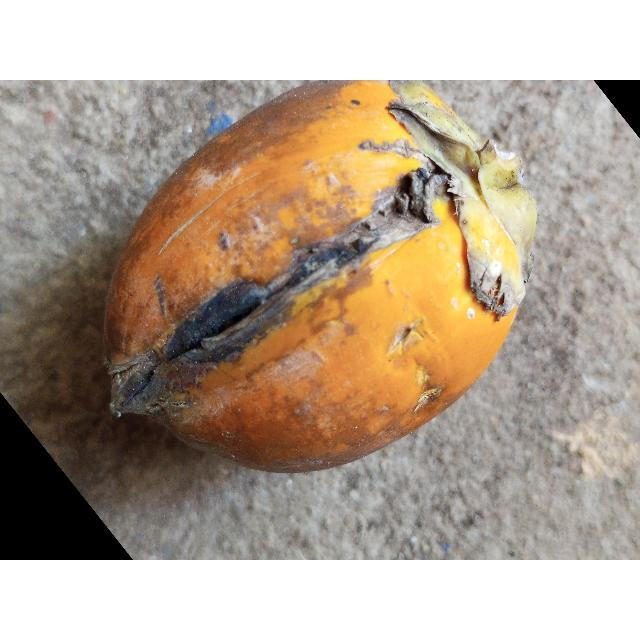damaged: (101, 80, 539, 476)
